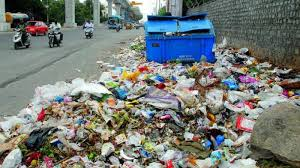garbage: (34, 87, 252, 168), (101, 61, 255, 168), (5, 113, 247, 168), (218, 52, 293, 100)
